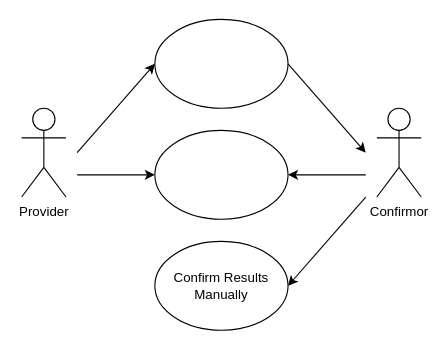
Some shapes in this 447 by 350 pixel diagram are drawn without their labels. Each missing label, with the centre of its shape:
"Get AutoCompare Results" goes at pixel 221 174.
"Provide OJ Files" goes at pixel 221 63.
